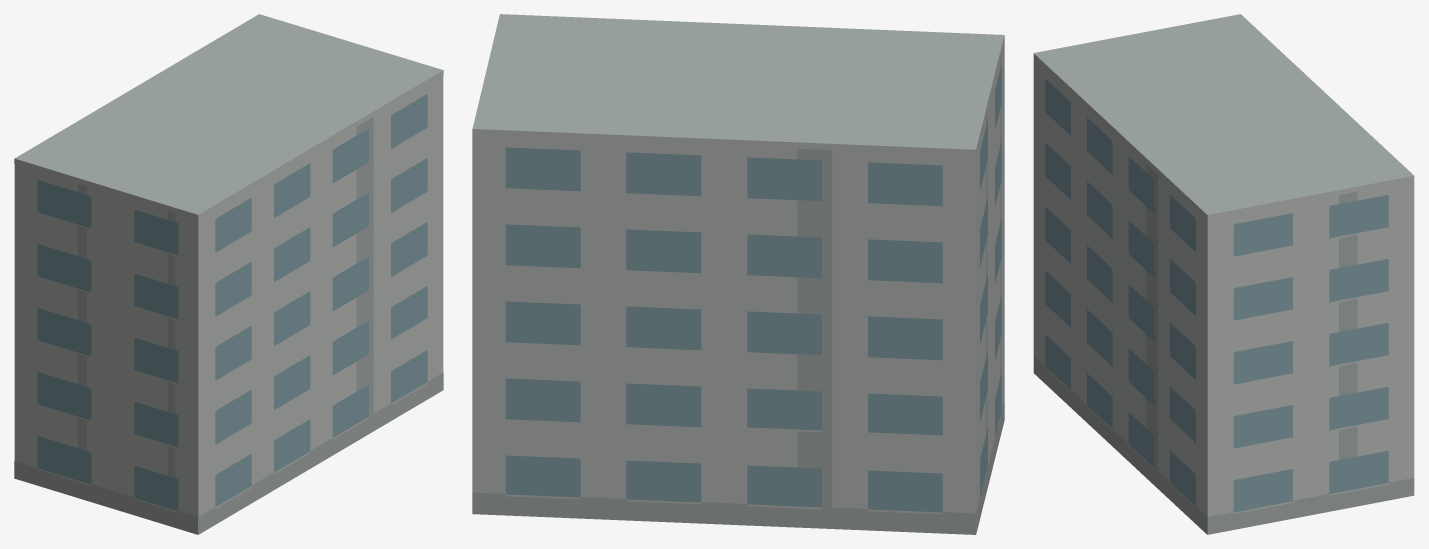
Rendered from survey-upis-32758089.glb.
3 views of the same model, side by side, from view 1: azimuth 30°, elevation 25°; view 2: azimuth 150°, elevation 25°; view 3: azimuth 270°, elevation 25° (orthographic). The views are drawn at different scales.
Parts seen in each view (by area): view 1: survey-upis-32758089.tmp; view 2: survey-upis-32758089.tmp; view 3: survey-upis-32758089.tmp.
Boxes of the visible parts, x1,y1,x2,y2 form: survey-upis-32758089.tmp: (14, 14, 443, 534); survey-upis-32758089.tmp: (472, 14, 1004, 534); survey-upis-32758089.tmp: (1033, 14, 1414, 534).
Bounding box in the file's own units: 19.56 × 14.5 × 15.66.
